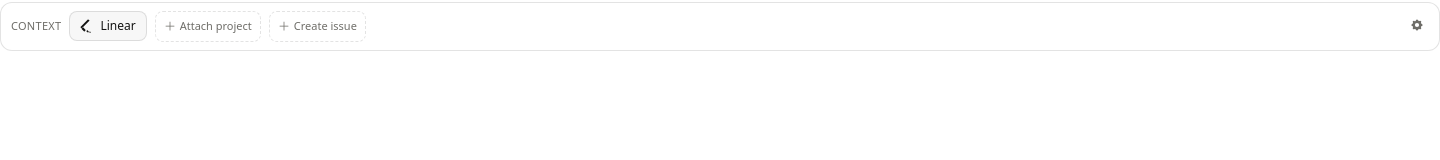
LinearSection › opens the Linear search dropdown when Linear button is clicked
Click the button "Linear": (108, 26) [69,11,147,41]
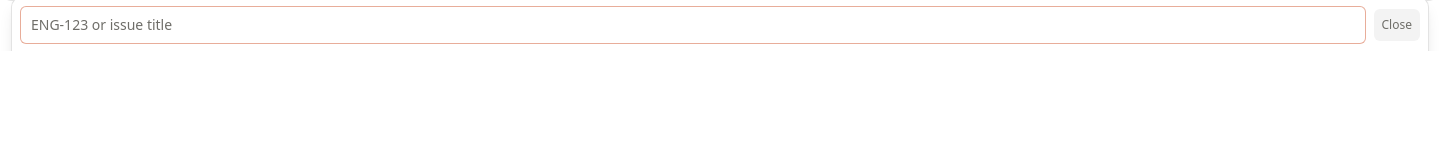
Check: the field with placeholder "ENG-123 or issue title" is shown, box [20,6,1366,44]
